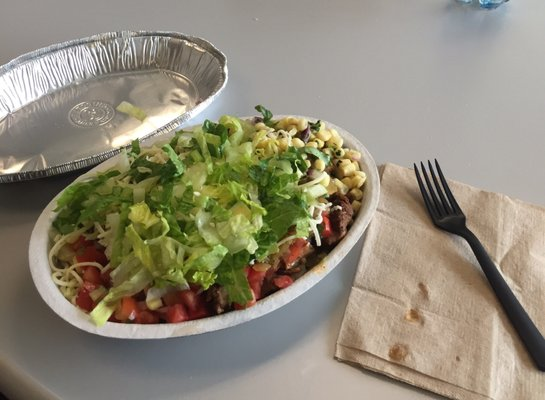burger: (412, 158, 545, 374)
sushi: (4, 104, 382, 365), (0, 30, 228, 185)
